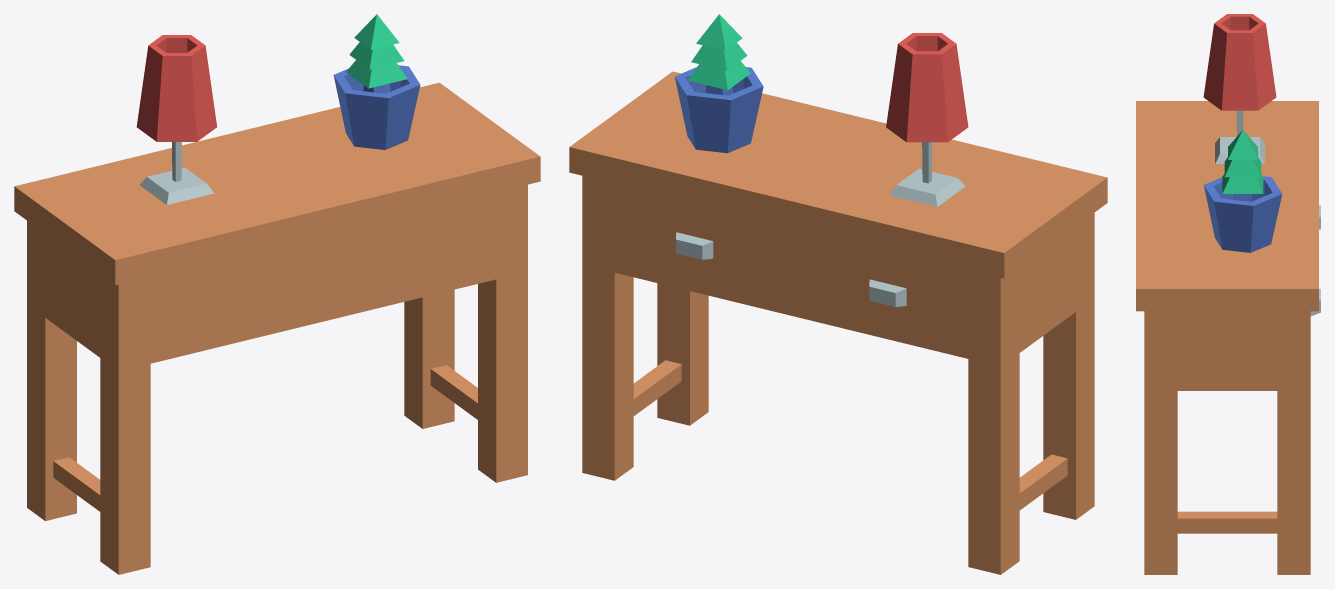
Rendered from Table2.fbx.
The picture shows the model from 3 angles, left to right: view 1: azimuth 30°, elevation 25°; view 2: azimuth 150°, elevation 25°; view 3: azimuth 270°, elevation 25°; orthographic projection. The views are drawn at different scales.
Visible parts, largest first — view 1: sideTableDrawers, lampRoundTable, plantSmall1; view 2: sideTableDrawers, lampRoundTable, plantSmall1; view 3: sideTableDrawers, lampRoundTable, plantSmall1.
Part boxes in pixels (x1,y1,x2,y2): sideTableDrawers: (14,82,540,574); lampRoundTable: (136,35,216,204); plantSmall1: (333,14,420,149); sideTableDrawers: (569,71,1107,574); lampRoundTable: (886,33,968,206); plantSmall1: (674,14,763,153); sideTableDrawers: (1136,101,1320,574); lampRoundTable: (1203,14,1276,163); plantSmall1: (1203,130,1282,252).
Bounding box in the file's own units: 10.69 × 11.14 × 4.45.
